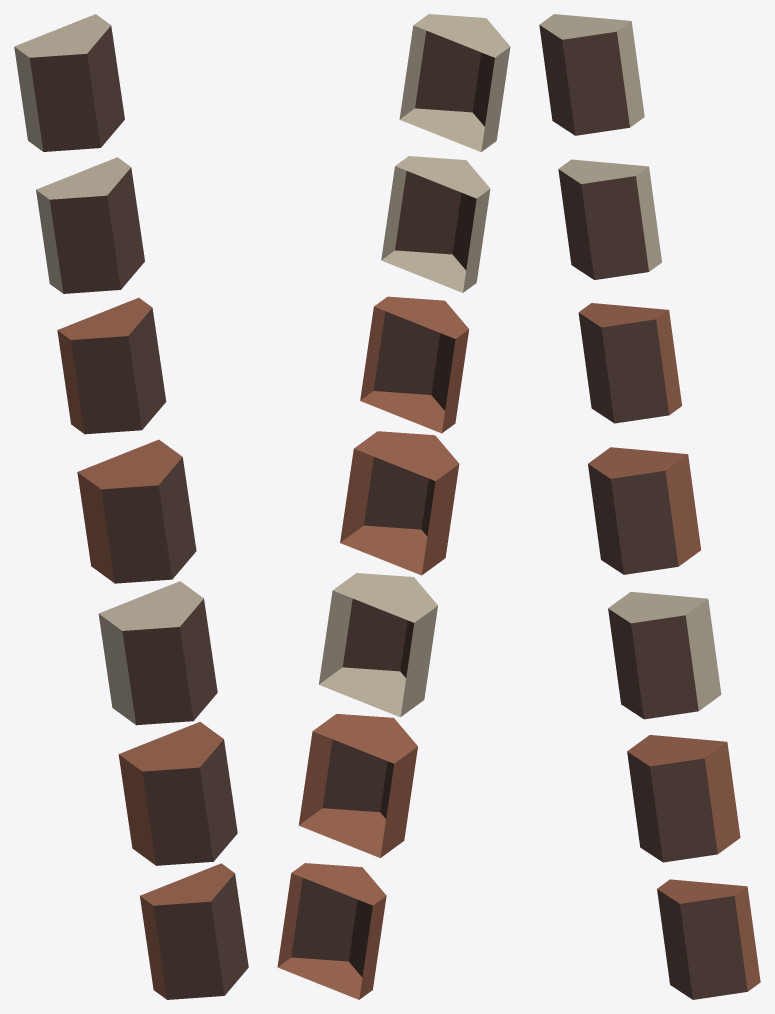
The model's file is island_bldg_24_03.obj.
3 views of the same model, side by side, from view 1: azimuth 30°, elevation 25°; view 2: azimuth 150°, elevation 25°; view 3: azimuth 330°, elevation 25° (orthographic). The views are drawn at different scales.
Visible parts, largest first — view 1: island_bldg_24_03; view 2: island_bldg_24_03; view 3: island_bldg_24_03.
Part boxes in pixels (box(x1,y1,x2,y2)): island_bldg_24_03: box(14, 14, 248, 999); island_bldg_24_03: box(277, 14, 510, 999); island_bldg_24_03: box(539, 14, 760, 999).
Size of the model in its own units: 37.19 by 160 by 12.46.
